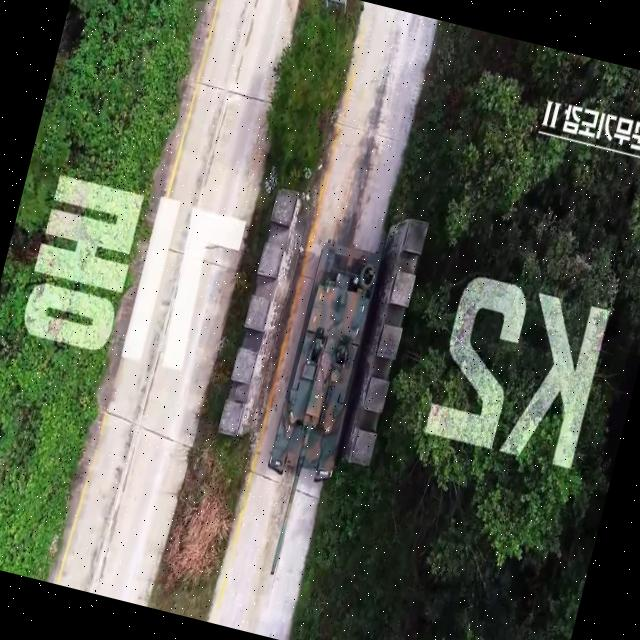korea tank: (238, 236, 390, 585)
